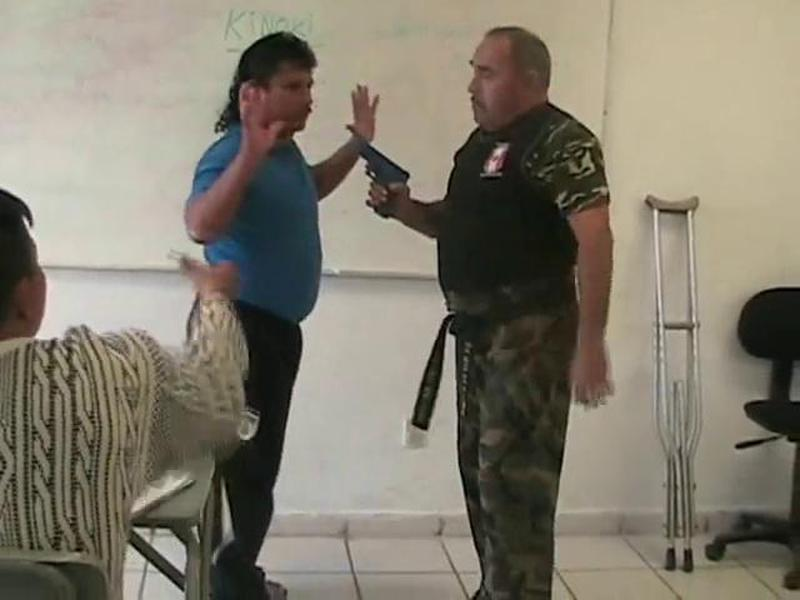Pistola: (344, 130, 433, 232)
